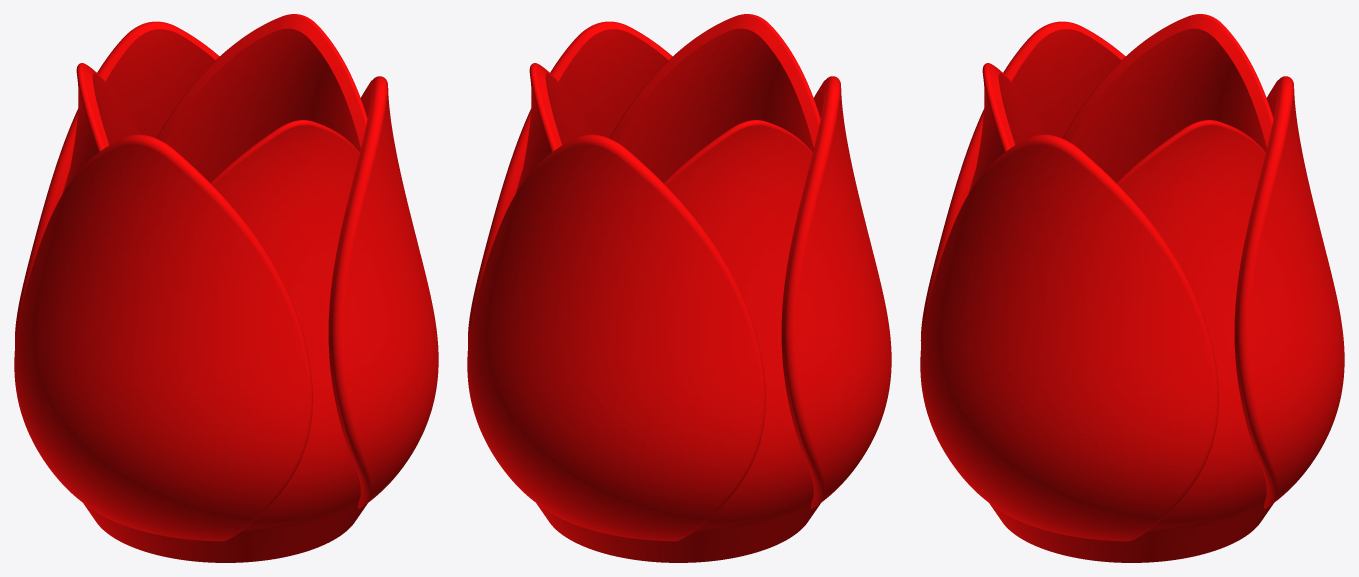
File: tulip.glb
3 renders of one model, left to right at view 1: azimuth 30°, elevation 25°; view 2: azimuth 150°, elevation 25°; view 3: azimuth 270°, elevation 25°, orthographic.
Visible parts, largest first — view 1: tulipflower.stl_fil1; view 2: tulipflower.stl_fil1; view 3: tulipflower.stl_fil1.
Boxes of the visible parts, x1=… form: tulipflower.stl_fil1: x1=14, y1=14, x2=438, y2=562; tulipflower.stl_fil1: x1=467, y1=14, x2=891, y2=562; tulipflower.stl_fil1: x1=920, y1=14, x2=1344, y2=562.
Size of the model in its own units: 0.0377 by 0.0428 by 0.0375.
